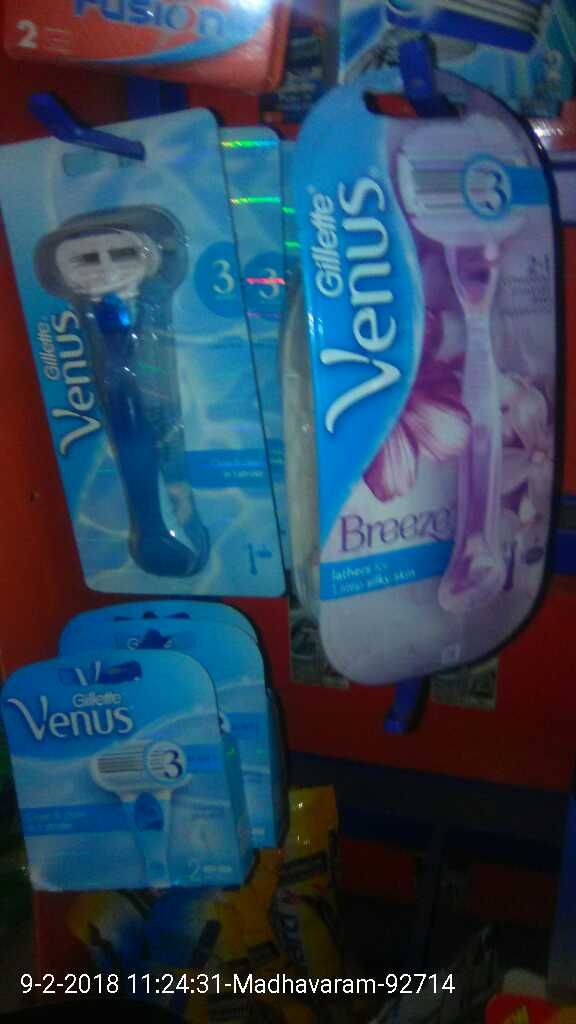venus: (295, 77, 537, 680), (14, 128, 237, 575), (1, 642, 248, 894)
